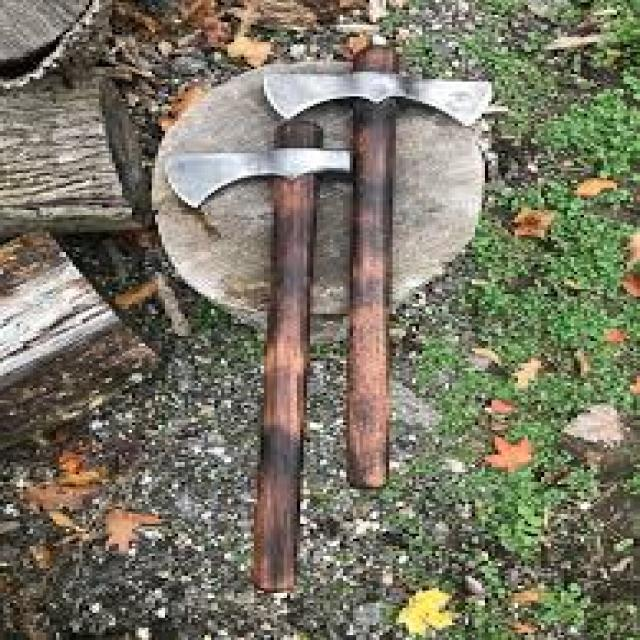hammer: (160, 114, 371, 596)
